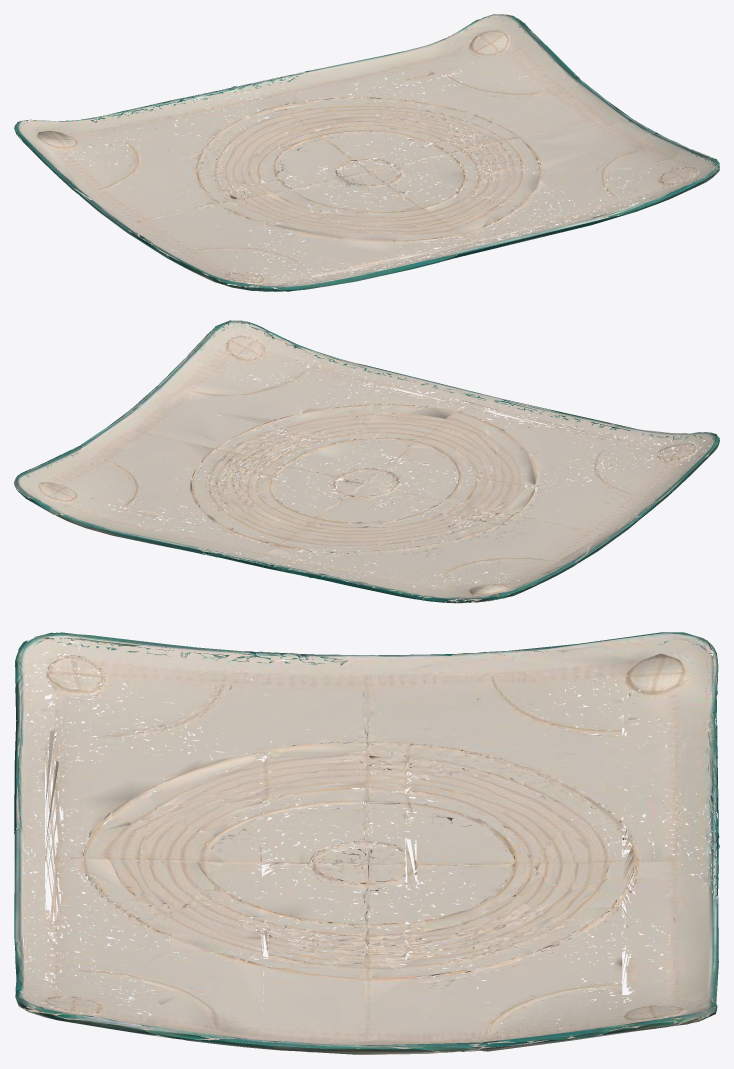
File: handoff-02-baker-sheet.glb
3 renders of one model, top to bottom at view 1: azimuth 30°, elevation 25°; view 2: azimuth 150°, elevation 25°; view 3: azimuth 270°, elevation 25°, orthographic. The views are drawn at different scales.
Parts seen in each view (by area): view 1: handoff-sheet; view 2: handoff-sheet; view 3: handoff-sheet.
Boxes of the visible parts, x1,y1,x2,y2 form: handoff-sheet: (14,14,719,291); handoff-sheet: (14,320,719,603); handoff-sheet: (14,632,719,1054).
Size of the model in its own units: 2 by 0.1349 by 1.58.
1 material, 1 textured.
